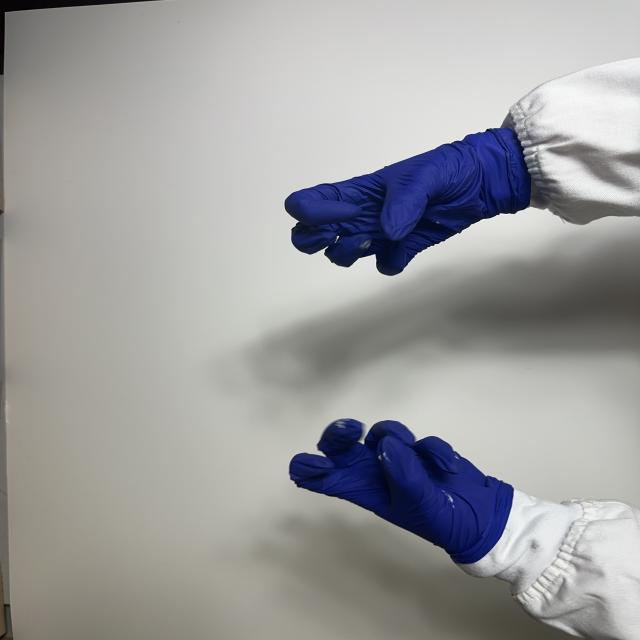gloves_contaminated: (286, 128, 530, 275), (290, 419, 514, 563)
